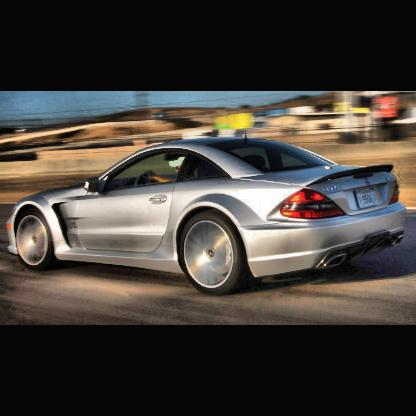Mercedes-Benz SL-Class Coupe 2009: (8, 136, 407, 296)
